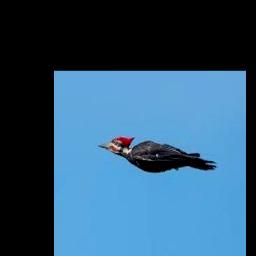Woodpecker: (99, 135, 218, 173)
